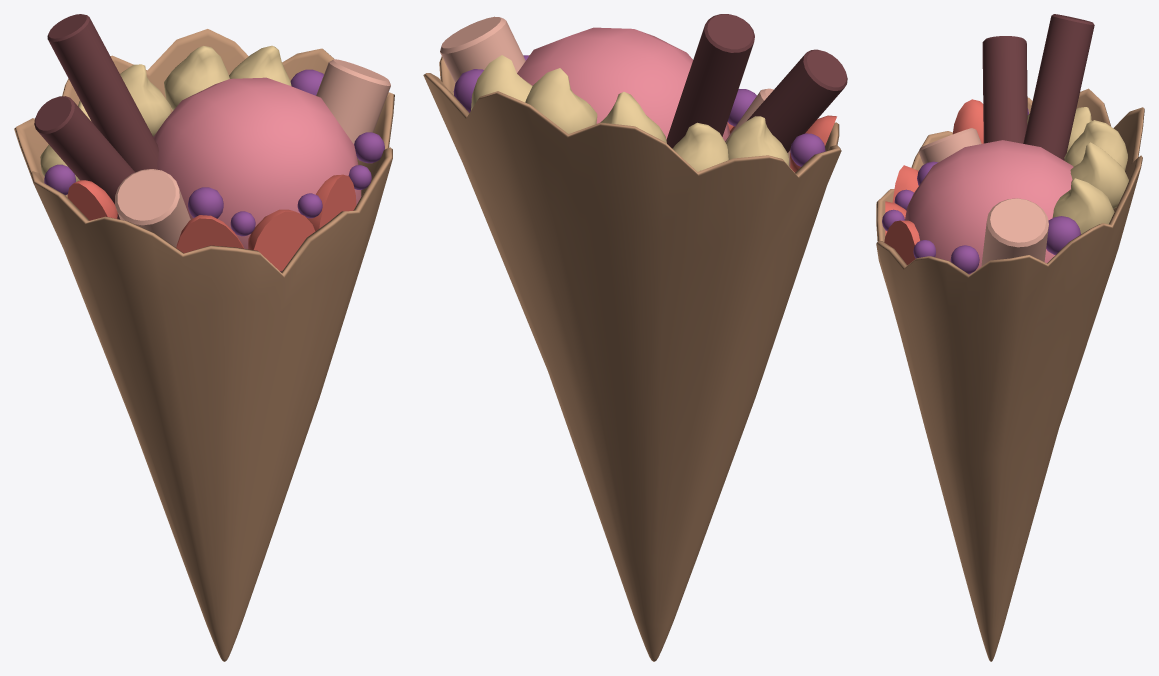
File: korike.fbx
The picture shows the model from 3 angles, left to right: view 1: azimuth 30°, elevation 25°; view 2: azimuth 150°, elevation 25°; view 3: azimuth 270°, elevation 25°; orthographic projection. The views are drawn at different scales.
Visible parts, largest first — view 1: group8; view 2: group8; view 3: group8.
Part boxes in pixels (x1,y1,x2,y2): group8: [14, 14, 394, 661]; group8: [423, 14, 847, 661]; group8: [876, 14, 1144, 661].
Size of the model in its own units: 72.11 by 122 by 49.46.
